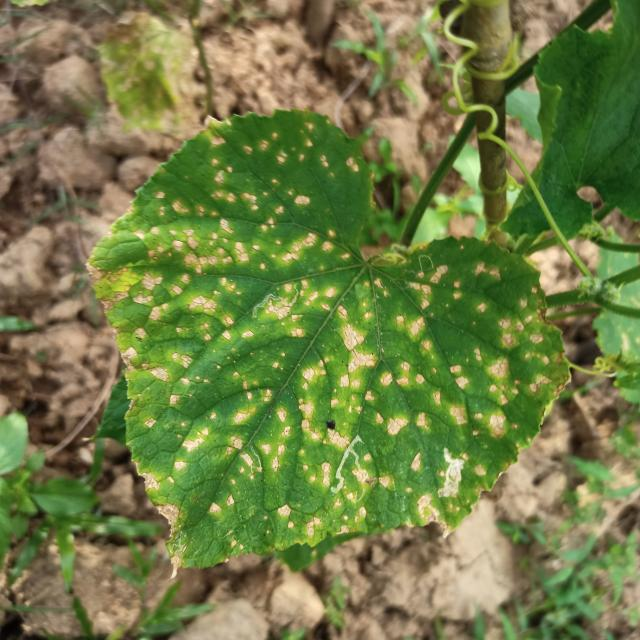disease_cucumber: (118, 140, 551, 556)
